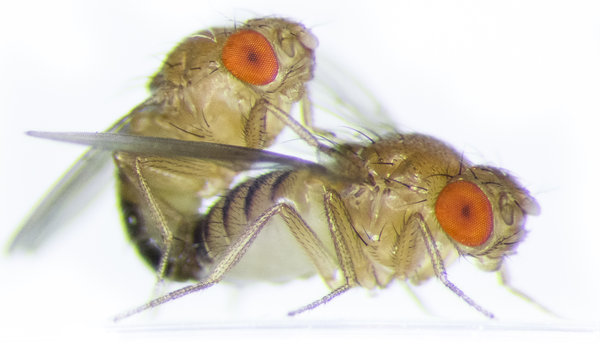Fruit fly: (48, 13, 324, 277), (240, 143, 547, 298)
